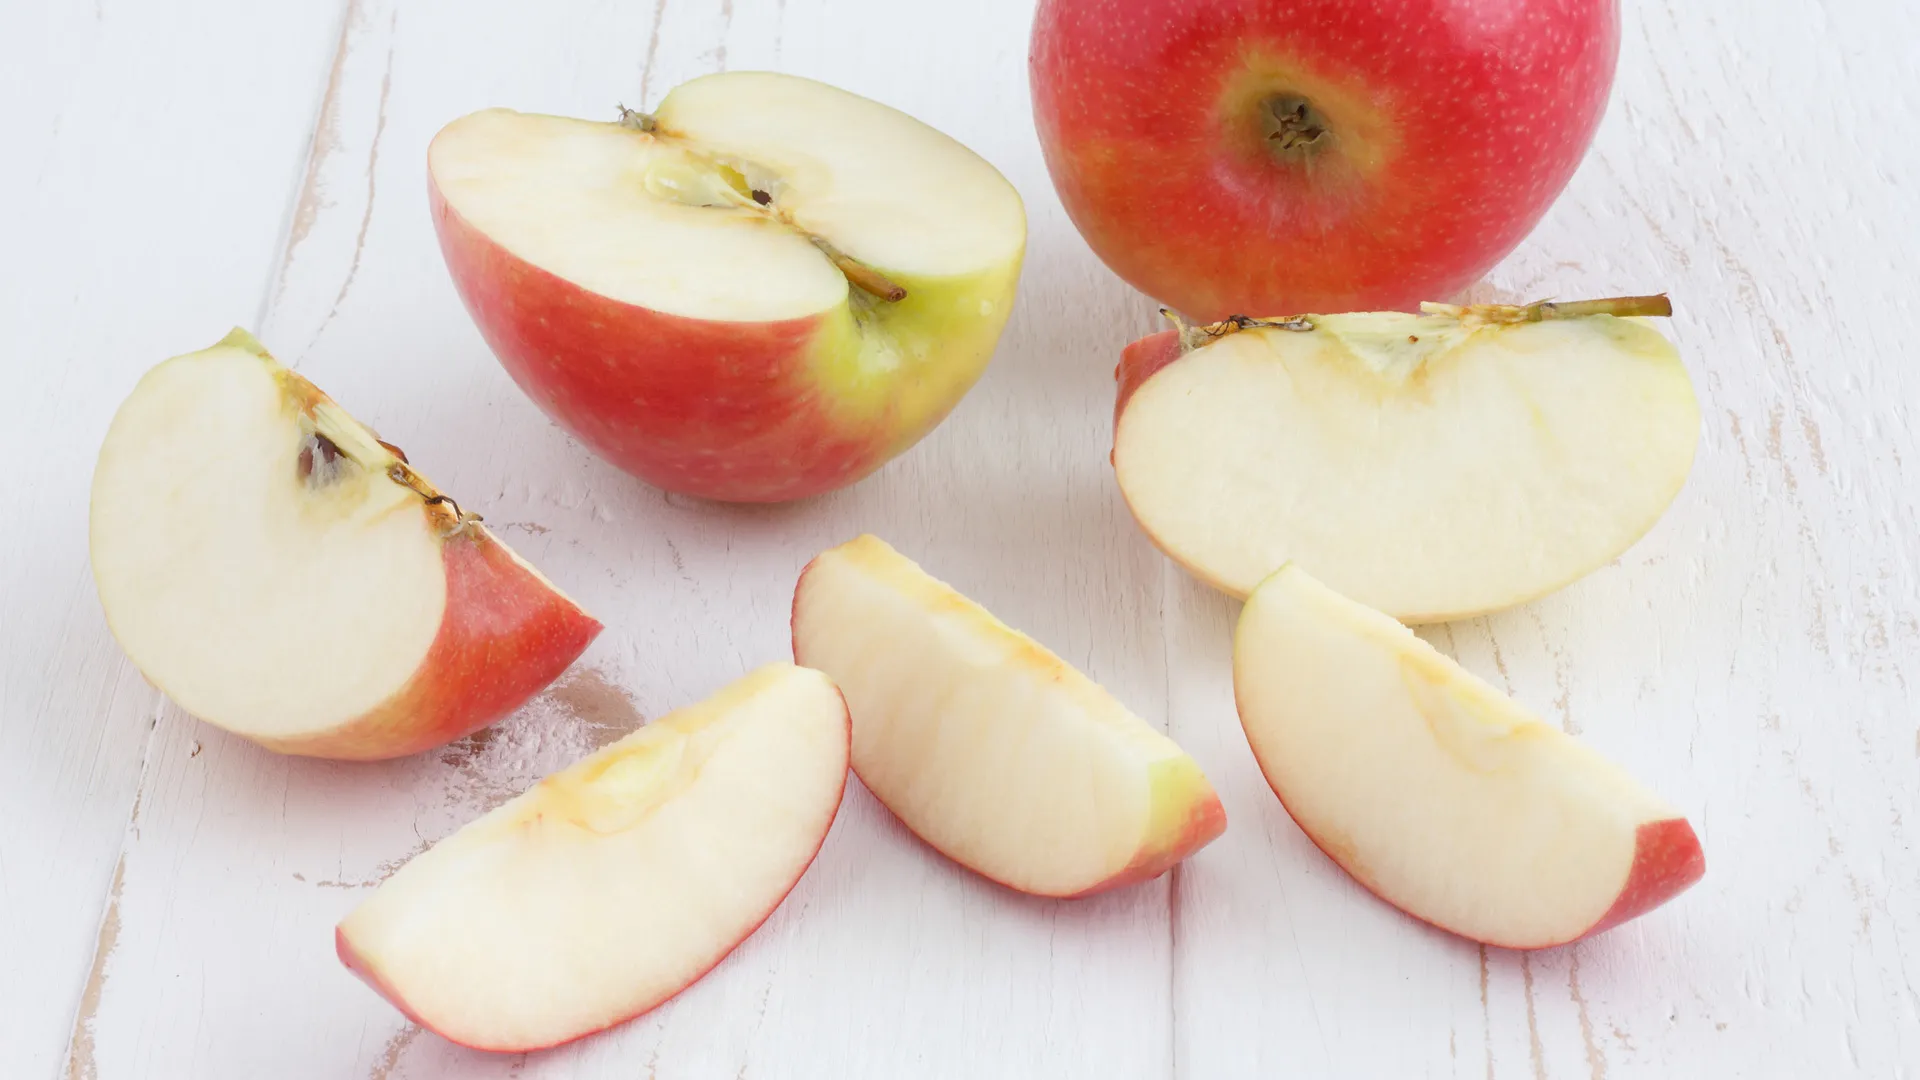apple: (431, 69, 1034, 506), (87, 324, 605, 760), (331, 665, 845, 1059), (1116, 301, 1697, 626), (1232, 564, 1706, 953), (793, 533, 1226, 899)
